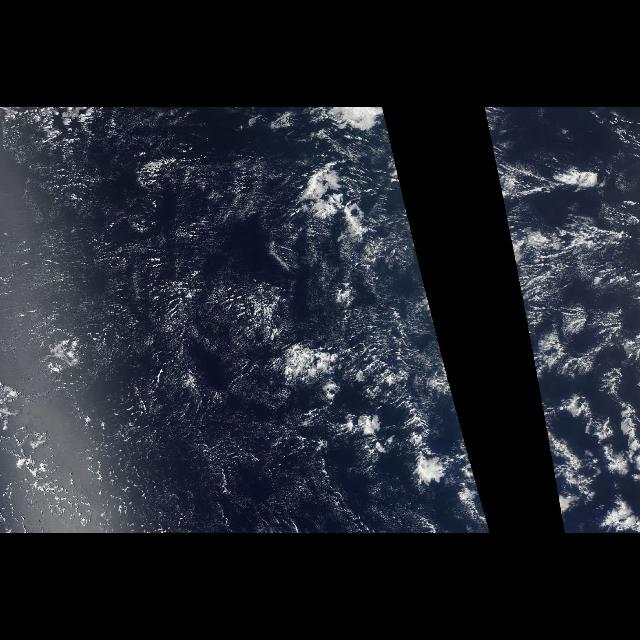Flower: (300, 166, 490, 532), (496, 166, 638, 532)
Gravel: (2, 320, 152, 530)
Sugar: (3, 132, 370, 534)
